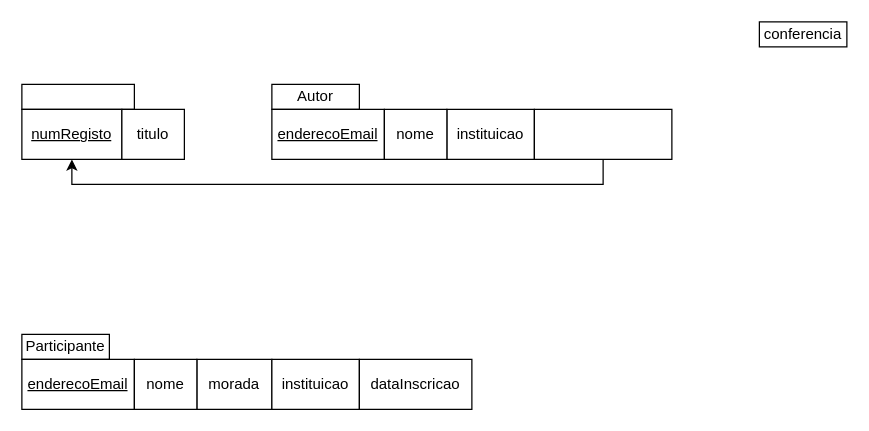
Image size: 869x431. Some labels were removed from this diagram. Each missing label, with the centre of its shape:
"ArtigoCientifico" goes at (77,96).
"ArtigoCientifico-numRegisto" goes at (602,133).
